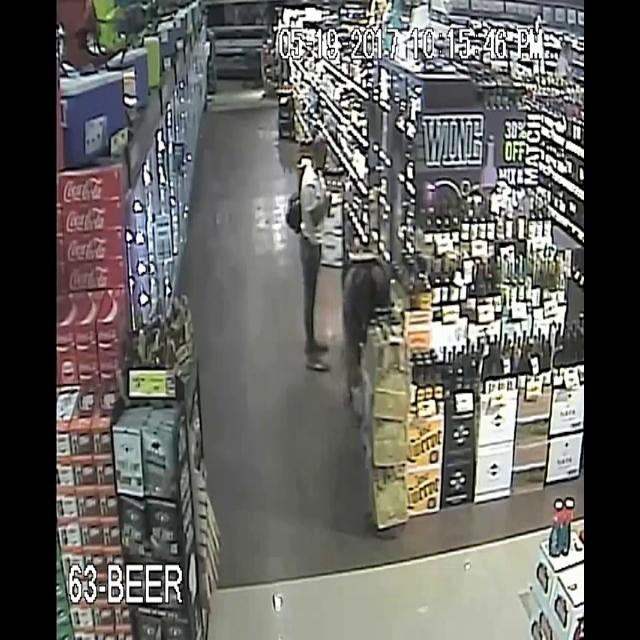normal: (325, 189, 400, 439), (286, 117, 334, 259)
